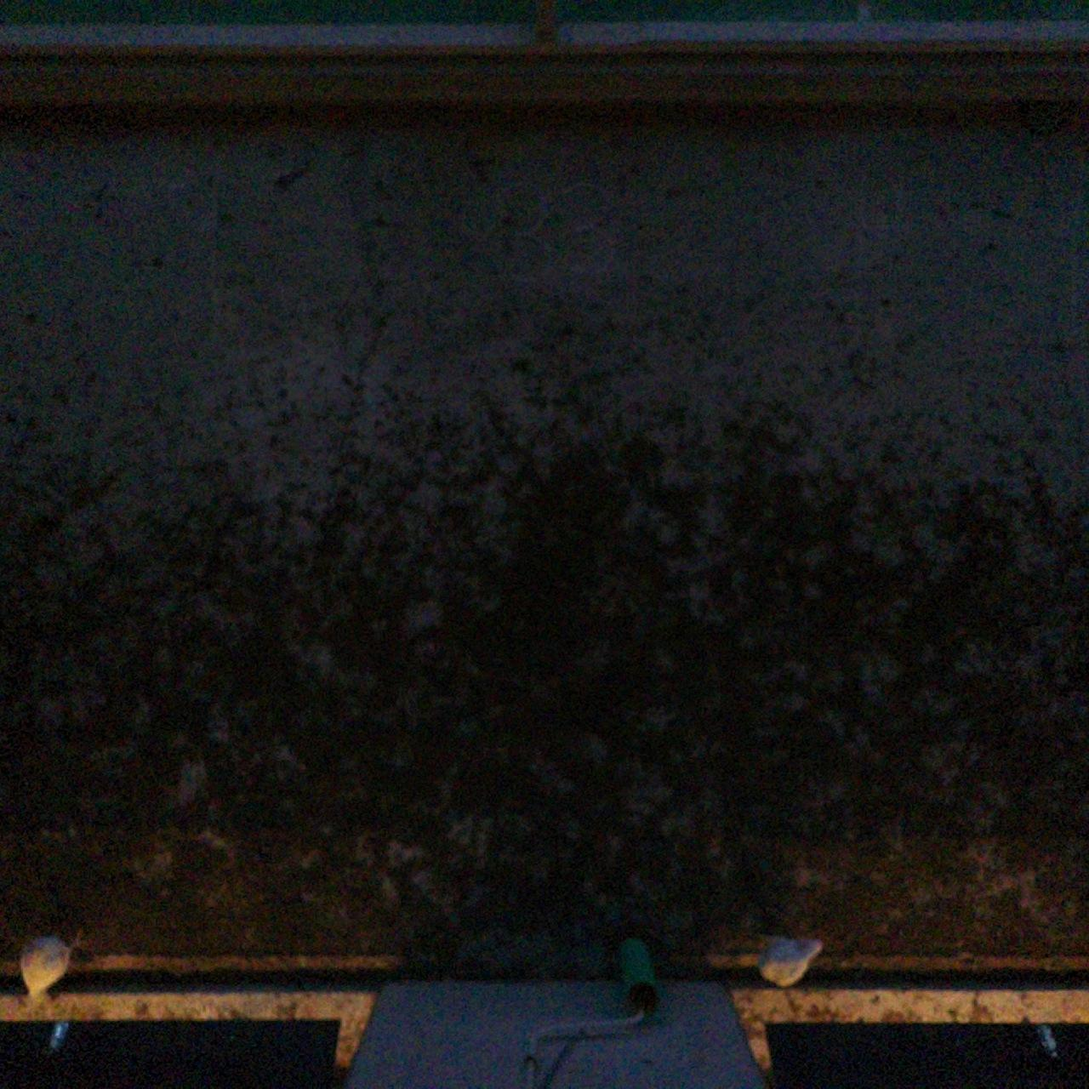chicken: (15, 929, 80, 1011), (754, 931, 824, 991)
